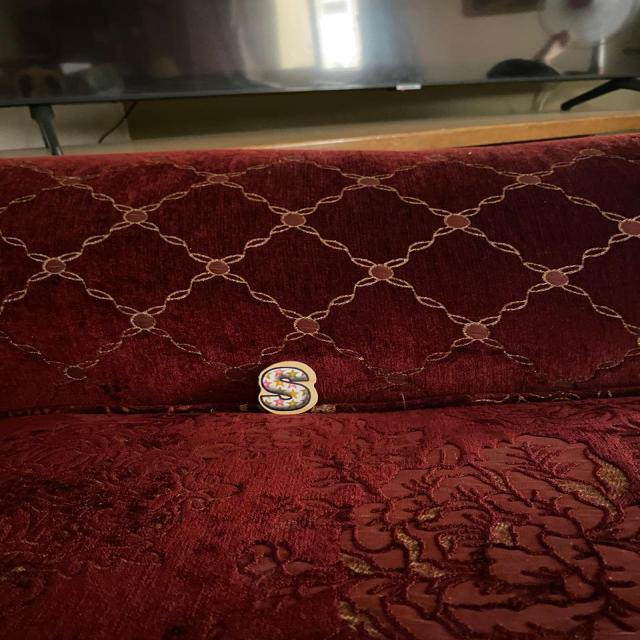S: (259, 362, 317, 416)
